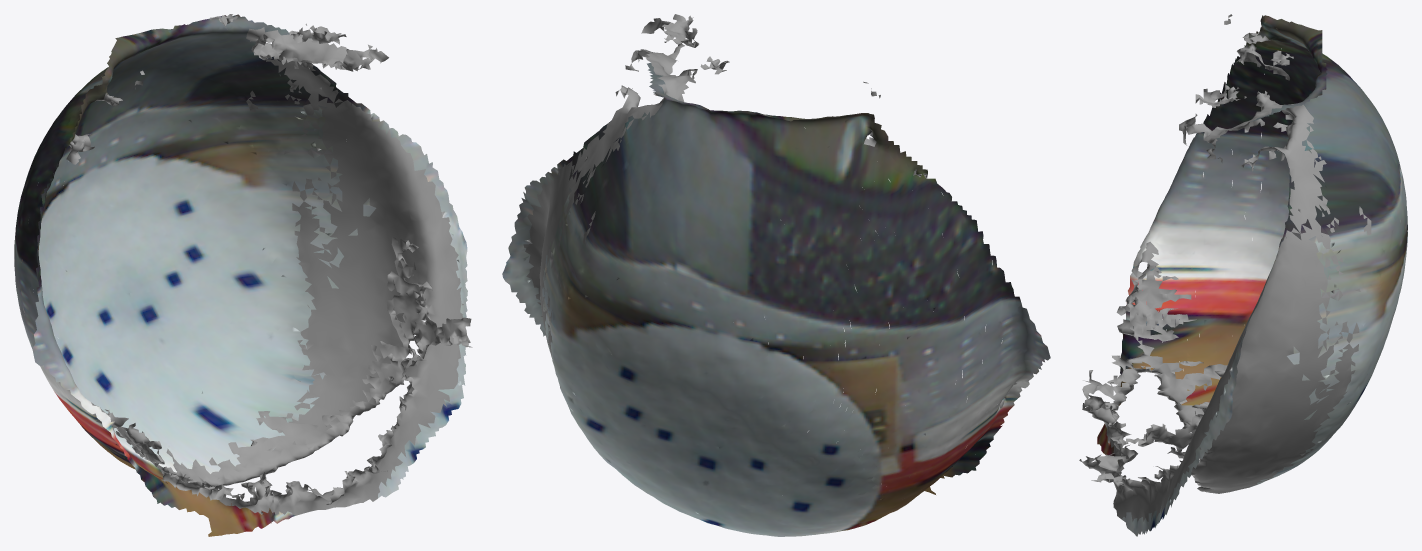
The model's file is textured_mesh_cropped_simplified.obj.
3 views of the same model, side by side, from view 1: azimuth 30°, elevation 25°; view 2: azimuth 150°, elevation 25°; view 3: azimuth 270°, elevation 25° (orthographic). The views are drawn at different scales.
Bounding box in the file's own units: 0.1985 × 0.1831 × 0.1256.
